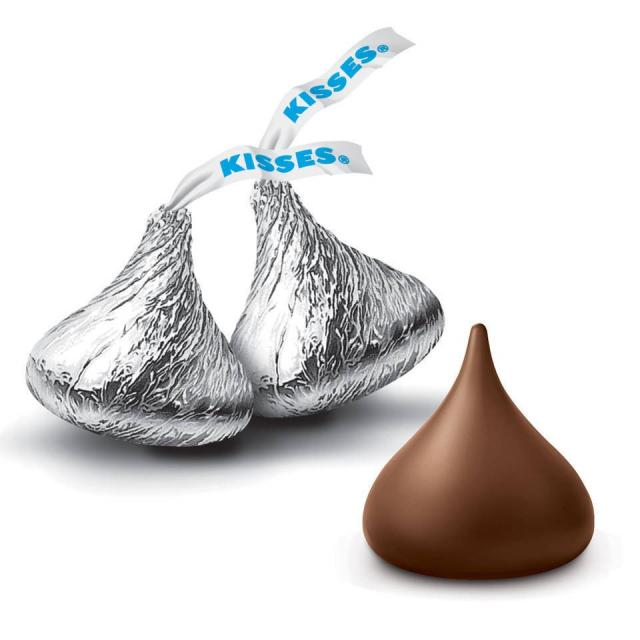kisses: (336, 283, 612, 613), (231, 140, 457, 432), (19, 180, 252, 452)
